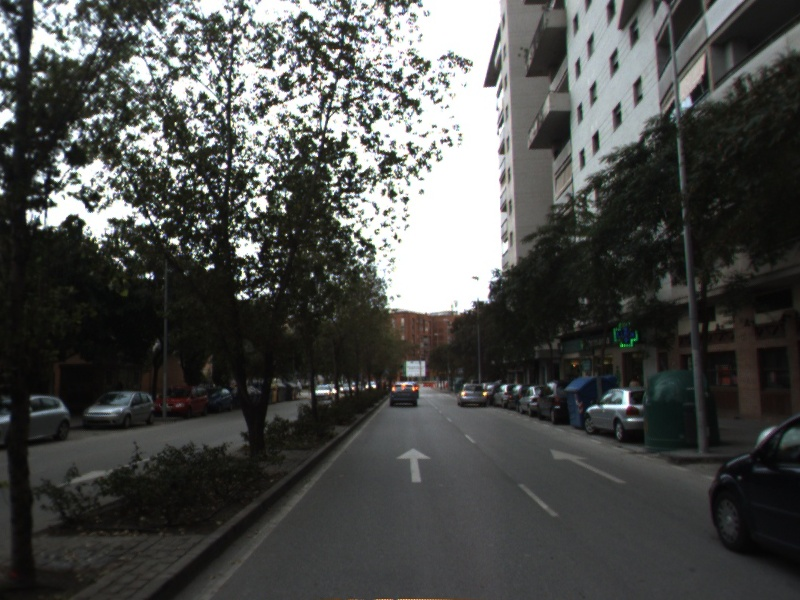STRAIGHT: (547, 446, 629, 485), (394, 446, 434, 484)
